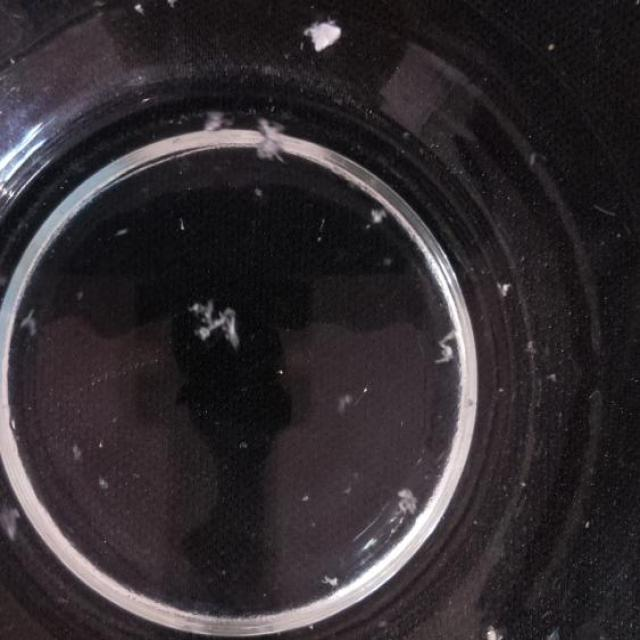fiber: (185, 297, 242, 353), (435, 314, 463, 376), (254, 116, 288, 166), (304, 14, 344, 54), (396, 479, 420, 530), (0, 501, 24, 547), (202, 105, 236, 136), (365, 198, 388, 236), (15, 306, 42, 338), (495, 274, 516, 298), (483, 621, 508, 639), (524, 149, 542, 172), (525, 334, 539, 361), (336, 386, 352, 409), (74, 276, 86, 306), (132, 0, 149, 21), (69, 437, 81, 466), (546, 365, 562, 386), (544, 39, 558, 62), (319, 574, 340, 589), (114, 225, 130, 242), (176, 214, 188, 233), (95, 471, 107, 490), (166, 0, 181, 13), (253, 186, 265, 200), (276, 365, 286, 379), (0, 271, 6, 293), (341, 485, 352, 497), (381, 256, 394, 266), (236, 440, 249, 450), (300, 492, 310, 504), (96, 438, 105, 451), (7, 56, 18, 66), (306, 621, 315, 633), (220, 566, 228, 578), (352, 470, 360, 481), (518, 480, 528, 488), (362, 384, 369, 394), (583, 521, 591, 529), (497, 386, 504, 393), (399, 419, 405, 426), (262, 591, 268, 598), (473, 520, 478, 524)
